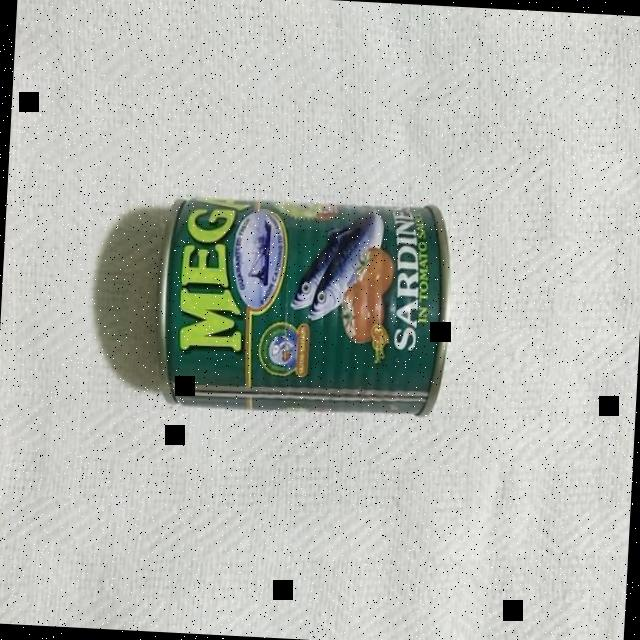can: (154, 188, 456, 418)
